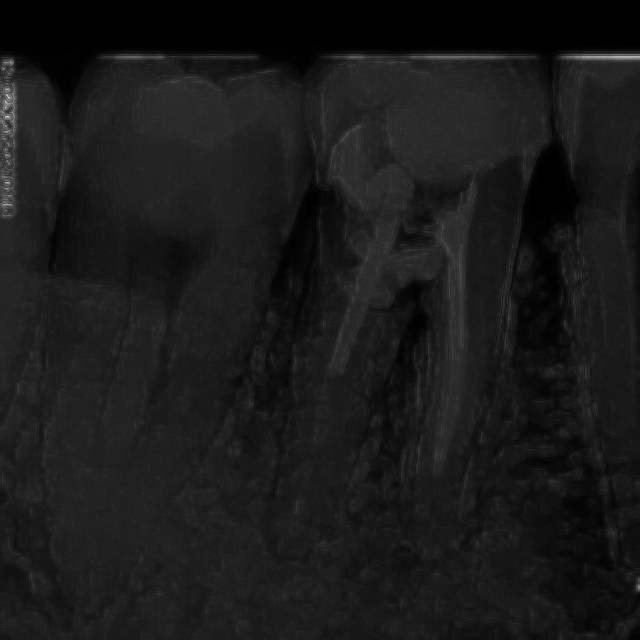Class 2- incomplete endodontic treatment: (268, 67, 552, 573)
